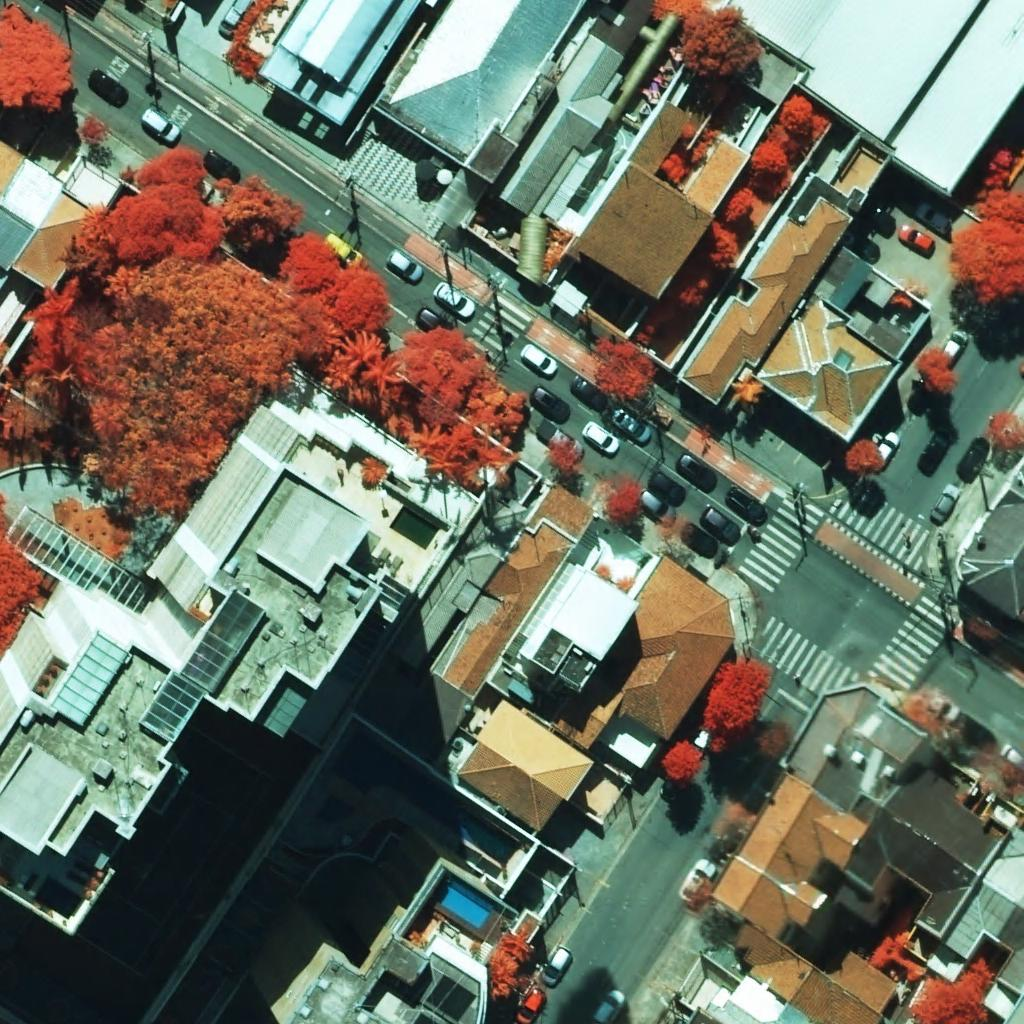pool: (432, 879, 493, 929)
